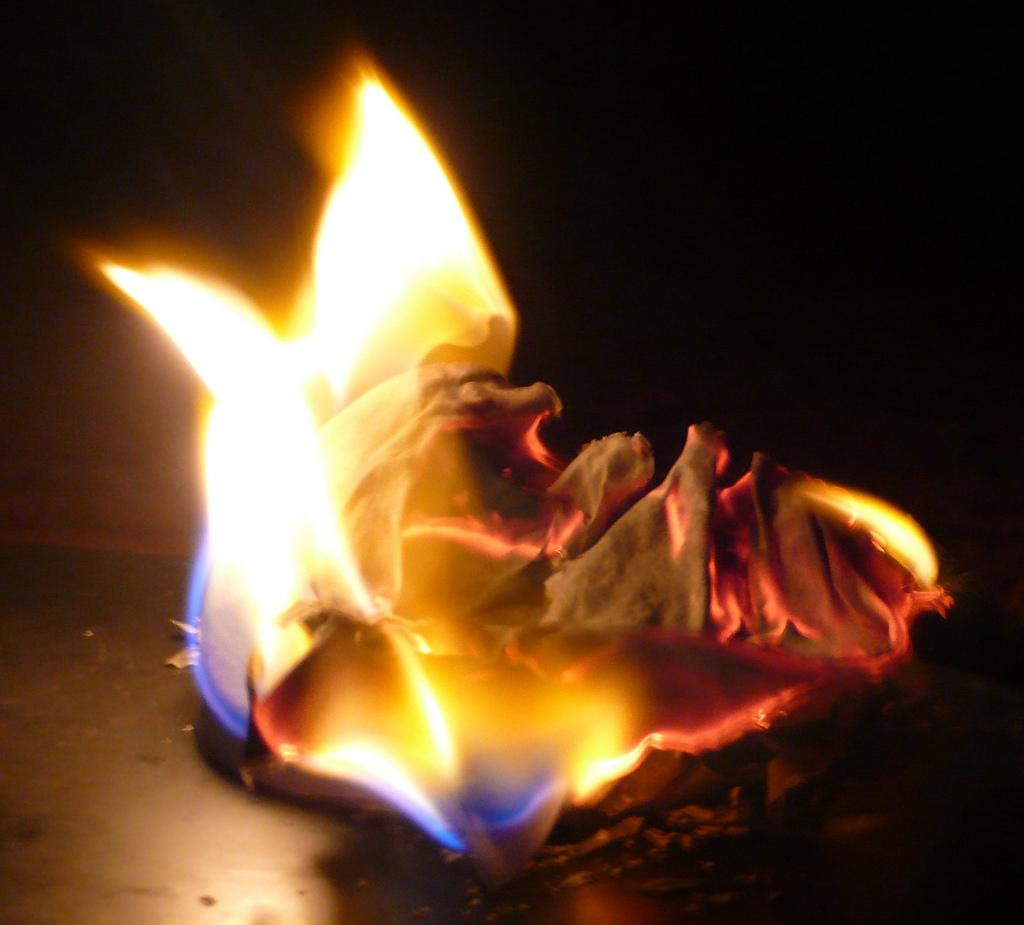fire: (180, 320, 502, 725), (312, 122, 485, 325)
